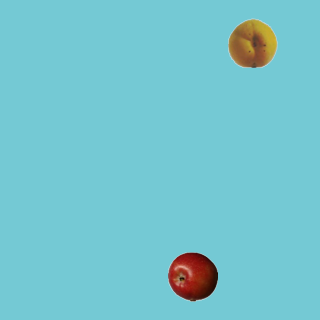Apple Braeburn: (167, 251, 217, 301)
Peach 2: (227, 17, 277, 67)
